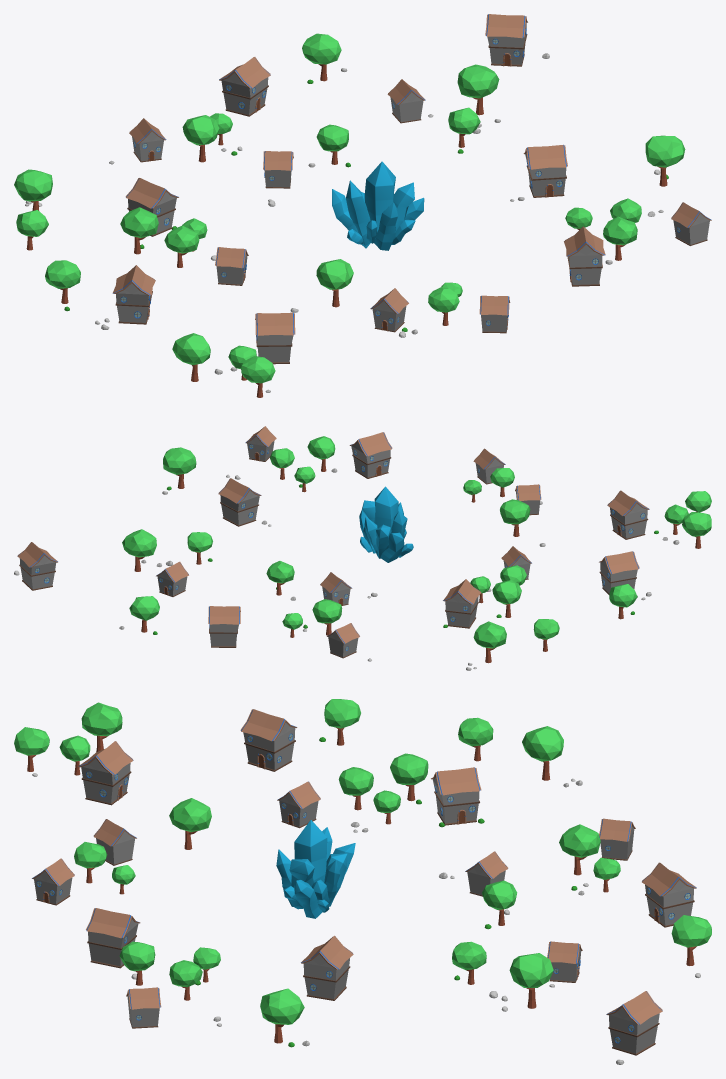
Rendered from Town Map - Collider Objects.fbx.
The picture shows the model from 3 angles, top to bottom: view 1: azimuth 30°, elevation 25°; view 2: azimuth 150°, elevation 25°; view 3: azimuth 270°, elevation 25°; orthographic projection. The views are drawn at different scales.
Visible parts, largest first — view 1: Town Teleporter, House2.004, House2.001, House2.005, House2.006, House2.003, House2.002, House2, Tree2, Tree2.003, House1.006, House1.001 (+19 smaller); view 2: Town Teleporter, House2.006, House2.001, House2.002, House2.005, House2, House2.004, House2.003, Tree2, Tree2.003, House1, House1.005 (+20 smaller); view 3: Town Teleporter, House2.003, House2.005, House2.002, House2, House2.001, House2.004, House2.006, Tree2.003, Tree2, House1.001, House1.002 (+21 smaller).
Part boxes in pixels (left/top/right/bottom): Town Teleporter: left=332, top=161, right=424, bottom=250; House2.004: left=219, top=57, right=270, bottom=116; House2.001: left=523, top=144, right=567, bottom=197; House2.005: left=485, top=14, right=527, bottom=66; House2.006: left=564, top=226, right=605, bottom=286; House2.003: left=112, top=265, right=155, bottom=324; House2.002: left=255, top=312, right=295, bottom=364; House2: left=125, top=178, right=178, bottom=236; Tree2: left=457, top=64, right=499, bottom=115; Tree2.003: left=645, top=135, right=685, bottom=186; House1.006: left=671, top=202, right=711, bottom=245; House1.001: left=215, top=247, right=248, bottom=285; Town Teleporter: left=359, top=486, right=413, bottom=562; House2.006: left=349, top=432, right=392, bottom=478; House2.001: left=218, top=478, right=261, bottom=526; House2.002: left=607, top=490, right=649, bottom=539; House2.005: left=17, top=542, right=57, bottom=590; House2: left=443, top=579, right=481, bottom=628; House2.004: left=208, top=606, right=240, bottom=647; House2.003: left=599, top=551, right=639, bottom=594; Tree2: left=122, top=529, right=156, bottom=571; Tree2.003: left=163, top=447, right=196, bottom=488; House1: left=327, top=623, right=359, bottom=658; House1.005: left=156, top=561, right=188, bottom=596; Town Teleporter: left=276, top=820, right=355, bottom=918; House2.003: left=240, top=709, right=297, bottom=771; House2.005: left=606, top=991, right=662, bottom=1055; House2.002: left=78, top=741, right=133, bottom=805; House2: left=431, top=767, right=481, bottom=825; House2.001: left=301, top=935, right=353, bottom=1000; House2.004: left=642, top=862, right=696, bottom=927; House2.006: left=86, top=908, right=140, bottom=968; Tree2.003: left=260, top=988, right=304, bottom=1043; Tree2: left=509, top=953, right=553, bottom=1008; House1.001: left=277, top=781, right=320, bottom=828; House1.002: left=32, top=858, right=74, bottom=905.
Size of the model in its own units: 5153 by 663 by 4603.
